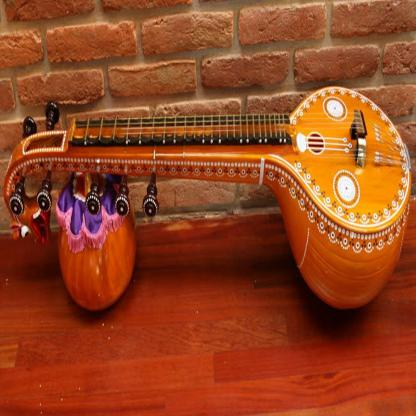Veena: (2, 79, 416, 234)
